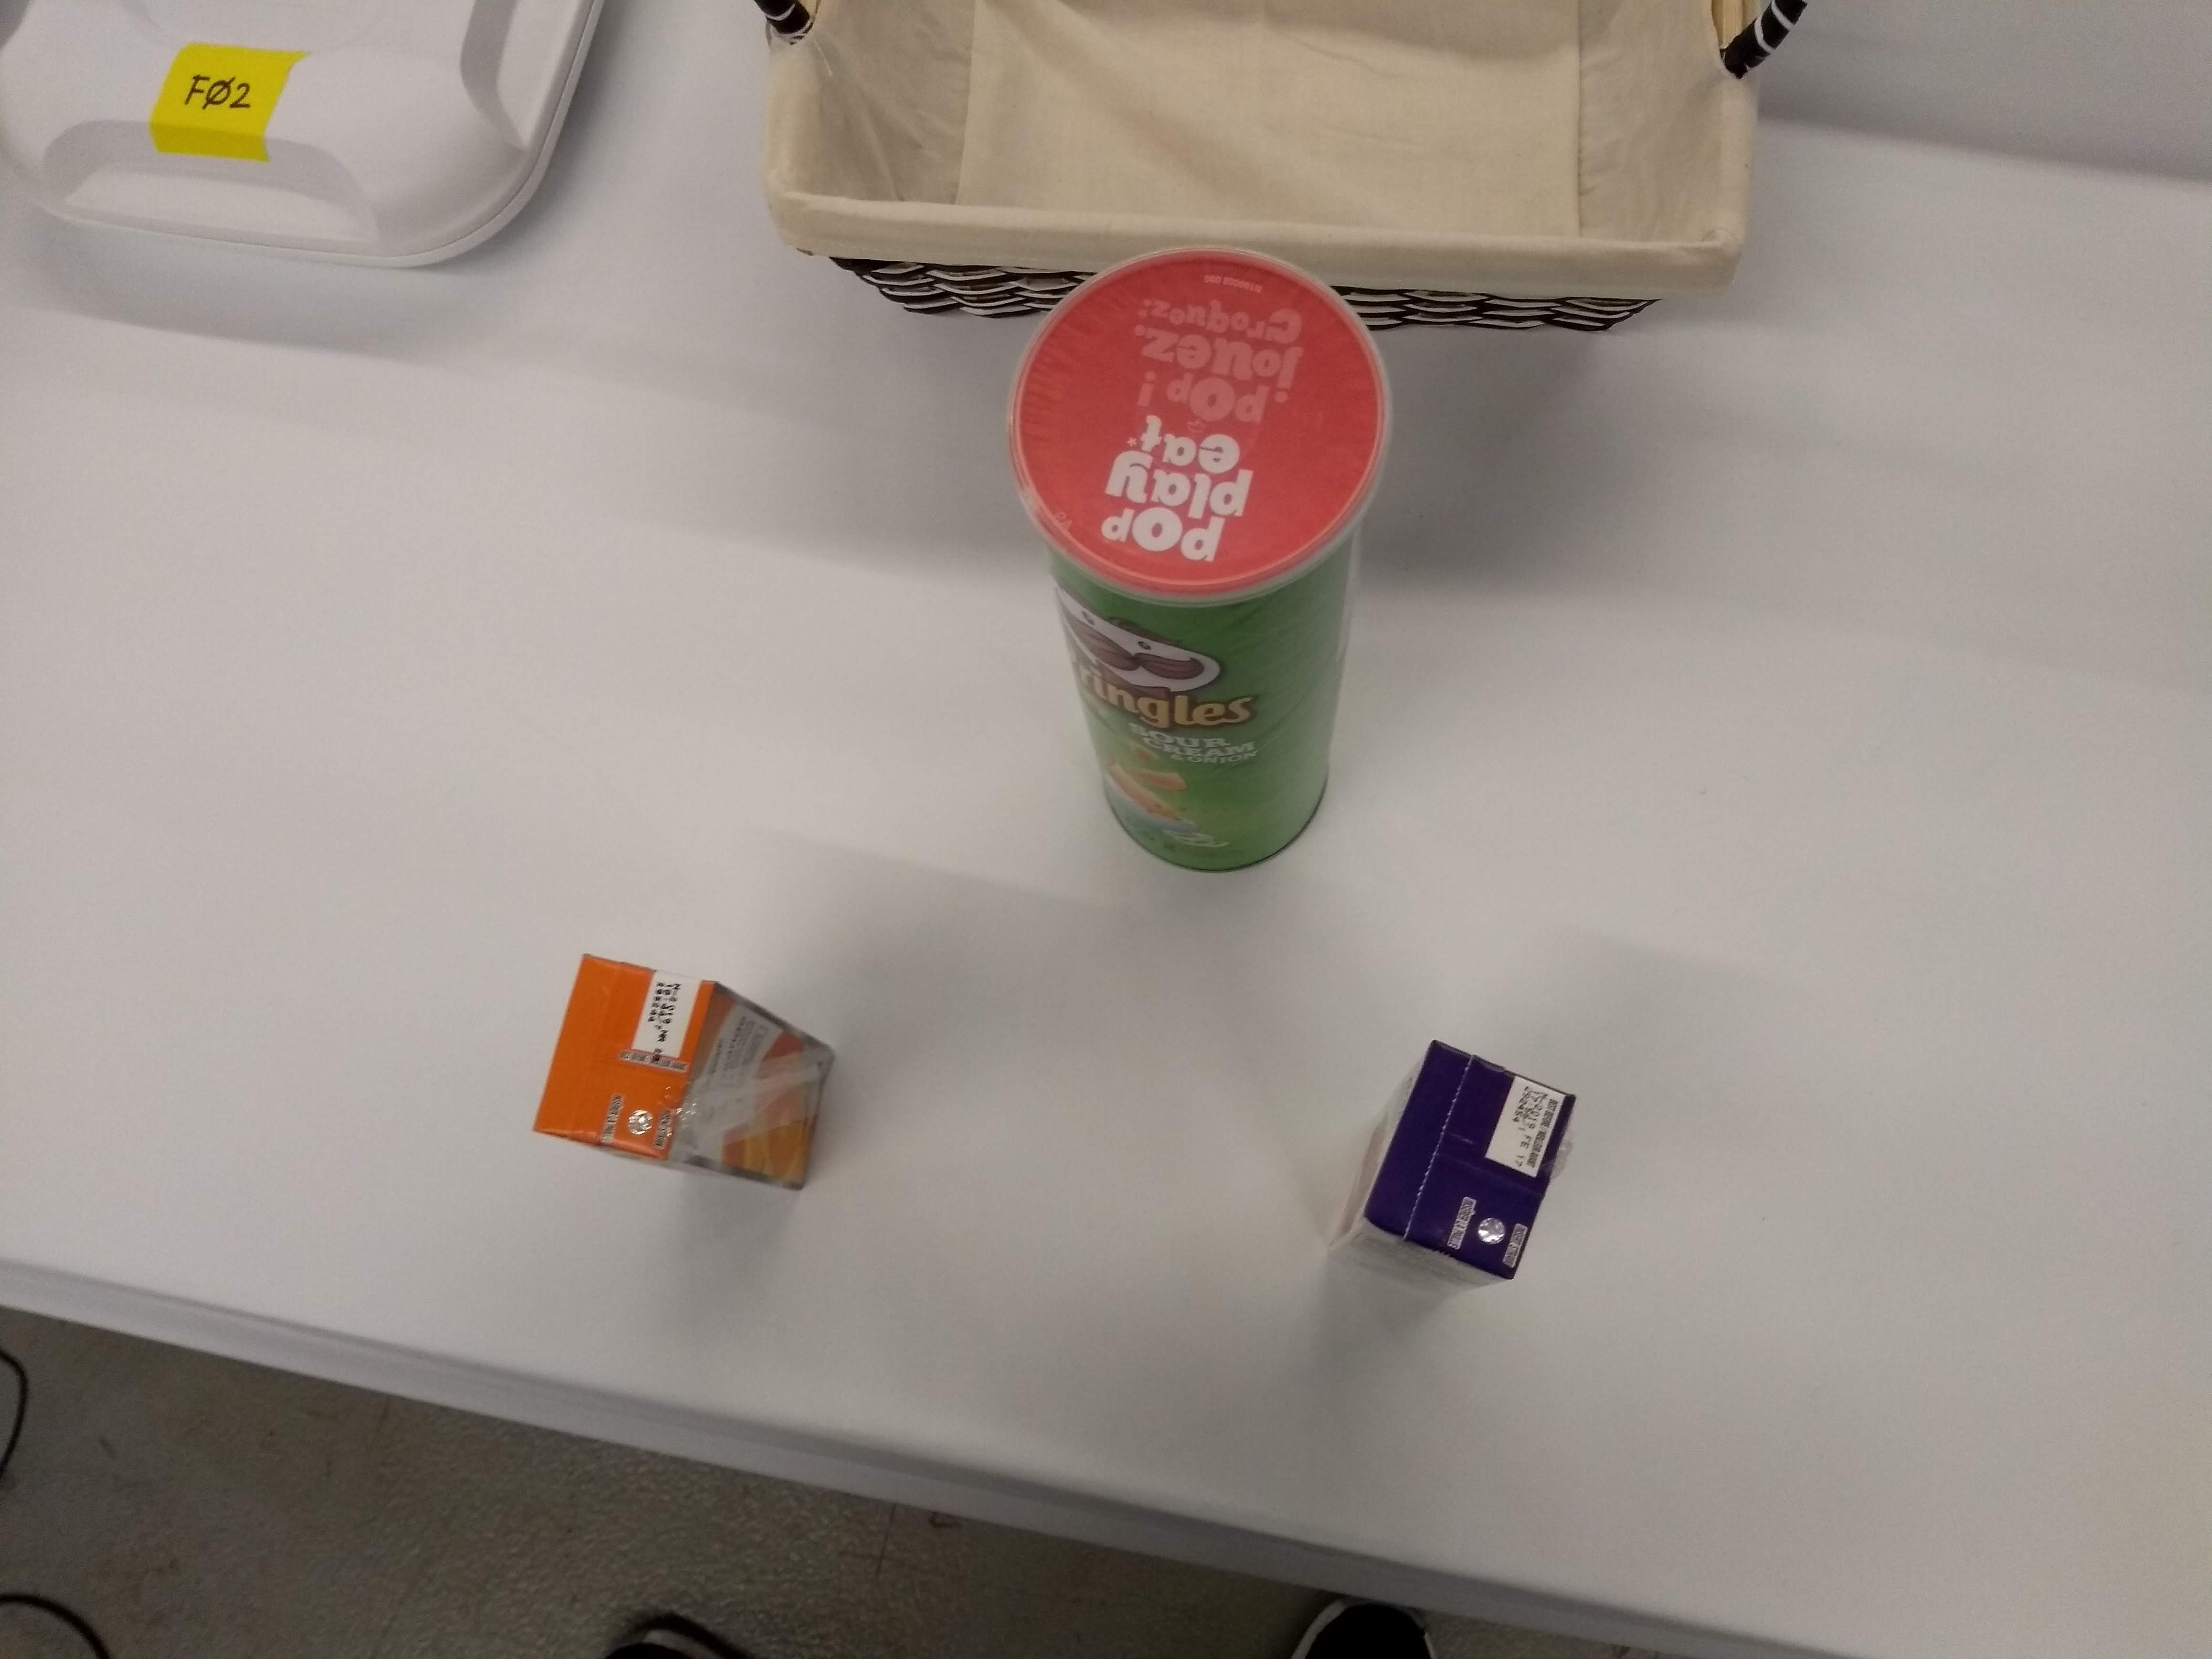grape_juice: (1327, 1037, 1581, 1314)
orange_juice: (526, 939, 845, 1208)
pringles: (991, 258, 1409, 889)
